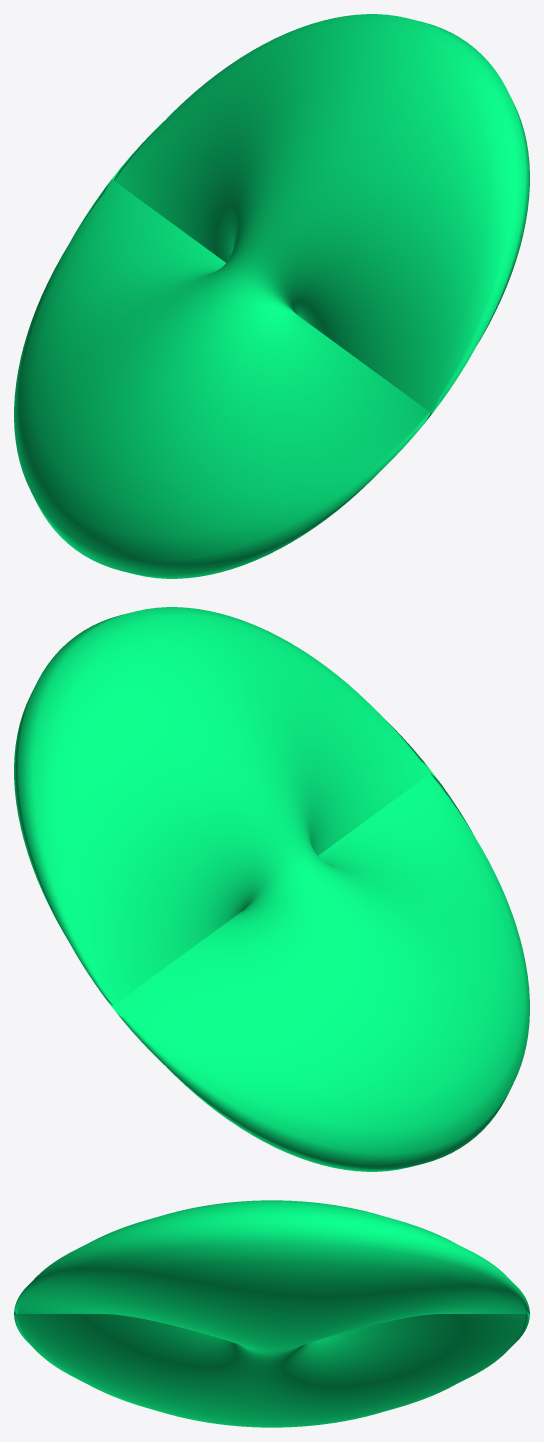
File: spherinder_5d_ar_universal.glb
3 renders of one model, top to bottom at view 1: azimuth 30°, elevation 25°; view 2: azimuth 150°, elevation 25°; view 3: azimuth 270°, elevation 25°, orthographic. The views are drawn at different scales.
Visible parts, largest first — view 1: spherinder_5d_ar; view 2: spherinder_5d_ar; view 3: spherinder_5d_ar.
Part boxes in pixels (x1=…): spherinder_5d_ar: x1=14, y1=14, x2=529, y2=578; spherinder_5d_ar: x1=14, y1=607, x2=529, y2=1171; spherinder_5d_ar: x1=14, y1=1200, x2=529, y2=1427.
Size of the model in its own units: 0.7371 by 0.7371 by 1.
